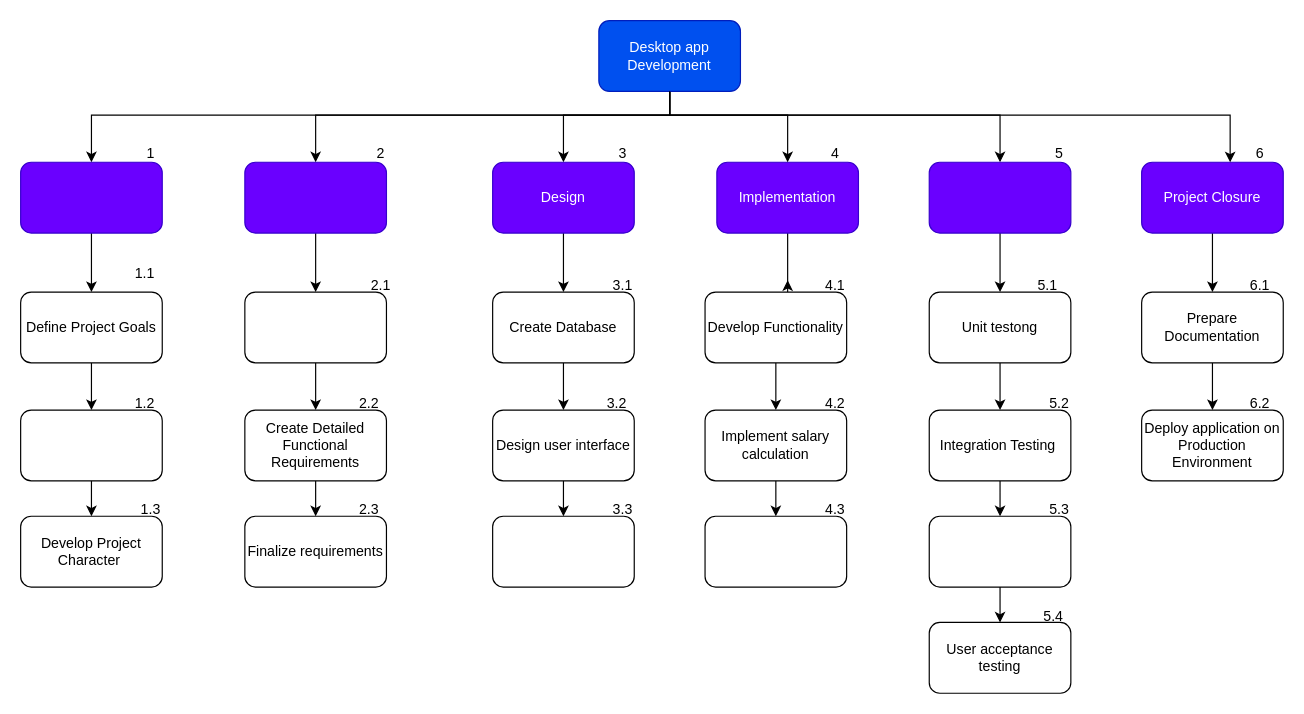
This 1304x714 diagram has some shape labels left out. Here are the shapes that lost their labels. From the top down, the centre of each, then its label:
At pixel 90 197: "Project Initation".
At pixel 315 197: "Requirement".
At pixel 999 197: "Testing".
At pixel 315 327: "Gather high Requirements".
At pixel 90 445: "Identify stakeholders and Create Project Team".
At pixel 562 551: "Review and Approve System design".
At pixel 775 551: "Develop employee's Maximum work hours".
At pixel 999 551: "System Testing".
